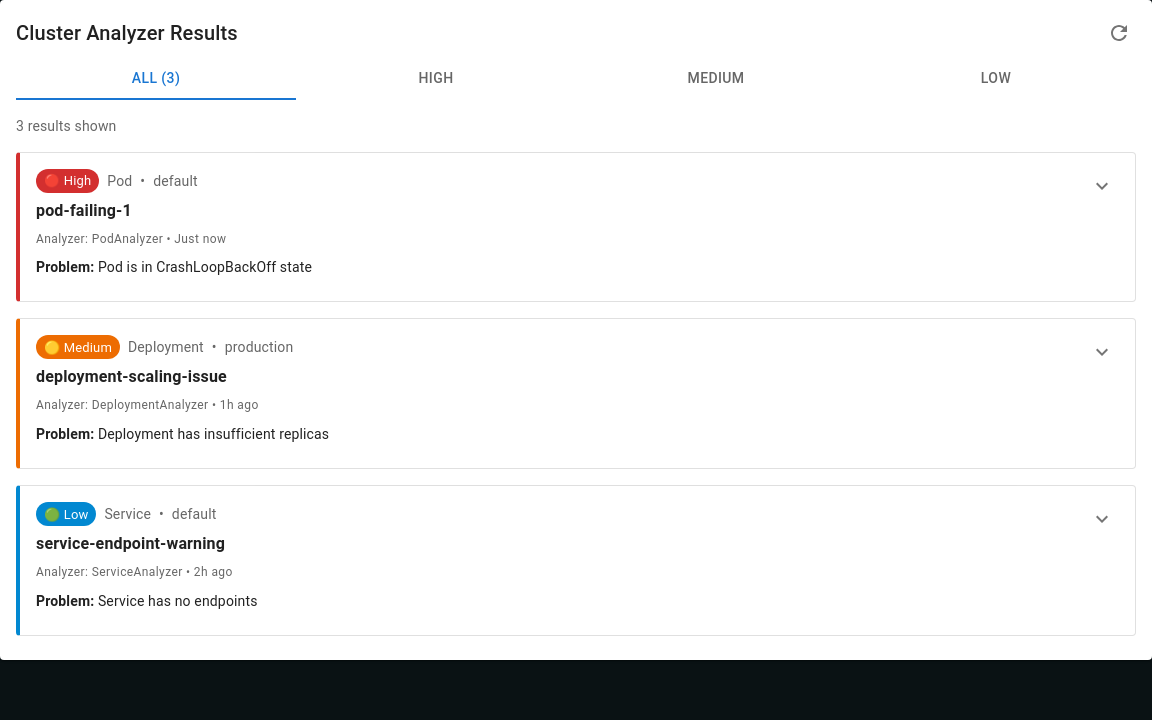
Test: ResultsPanel › Filtering › should filter results by severity tab click
Expected: the heading "pod-failing-1" is shown, [36,200,132,220]
Click High tab
Click the tab "High" at [436, 79], box [296,58,576,100]
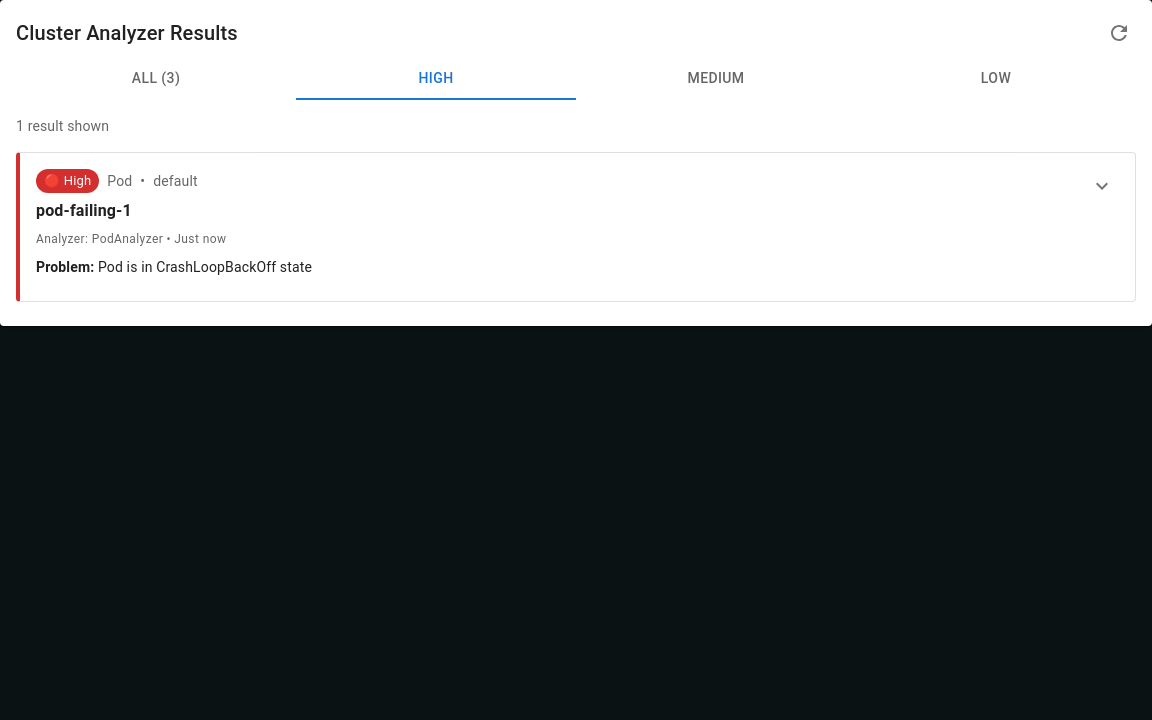
Result: the heading "deployment-scaling-issue" is gone
Result: the heading "service-endpoint-warning" is gone
Result: the text "1 result shown" is shown at [16,118,109,134]
